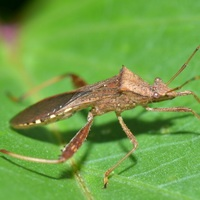insect: (0, 45, 199, 187)
